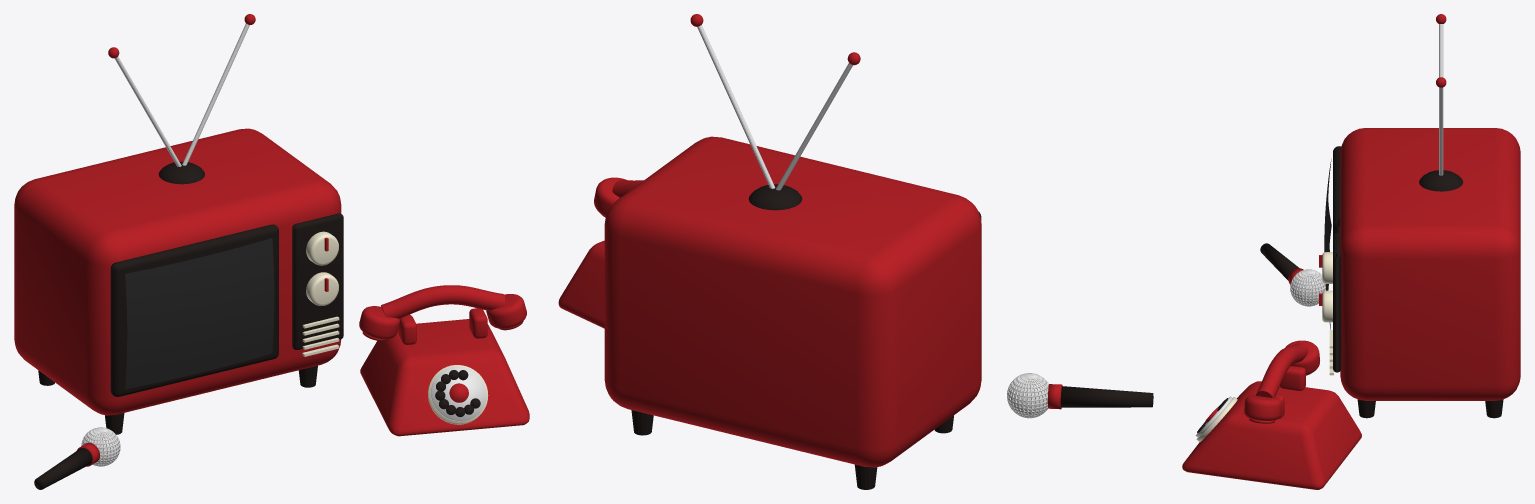
The picture shows the model from 3 angles, left to right: view 1: azimuth 30°, elevation 25°; view 2: azimuth 150°, elevation 25°; view 3: azimuth 270°, elevation 25°; orthographic projection. The views are drawn at different scales.
Parts seen in each view (by area): view 1: TV, Screen, PhoneBase, Handset, Mic; view 2: TV, Mic, PhoneBase, Handset; view 3: TV, PhoneBase, Handset, Mic, Screen.
Part boxes in pixels (bbox=[...]): TV: bbox=[14, 14, 343, 434]; Screen: bbox=[125, 238, 274, 389]; PhoneBase: bbox=[360, 308, 529, 436]; Handset: bbox=[359, 285, 526, 341]; Mic: bbox=[34, 427, 120, 489]; TV: bbox=[604, 14, 981, 489]; Mic: bbox=[1007, 373, 1153, 418]; PhoneBase: bbox=[558, 240, 604, 328]; Handset: bbox=[594, 177, 643, 217]; TV: bbox=[1319, 14, 1520, 418]; PhoneBase: bbox=[1182, 366, 1361, 489]; Handset: bbox=[1244, 340, 1319, 423]; Mic: bbox=[1260, 243, 1325, 306]; Screen: bbox=[1324, 159, 1331, 329].
Size of the model in its own units: 2.53 by 1.71 by 1.59.
